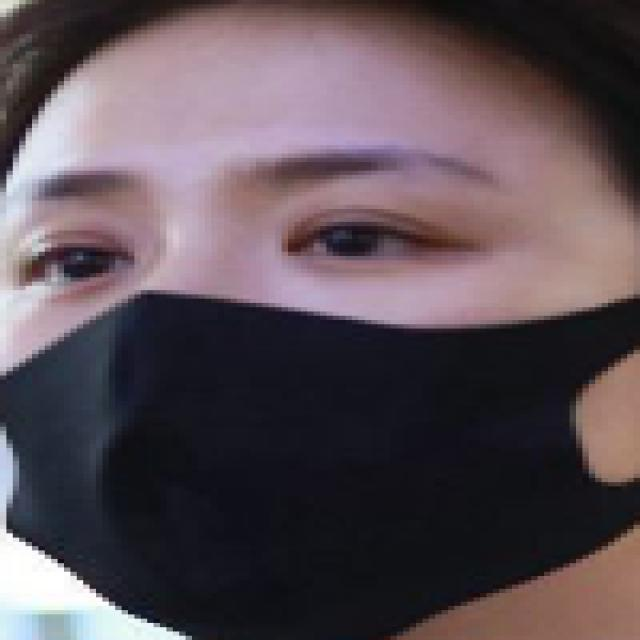mask: (0, 170, 640, 636)
